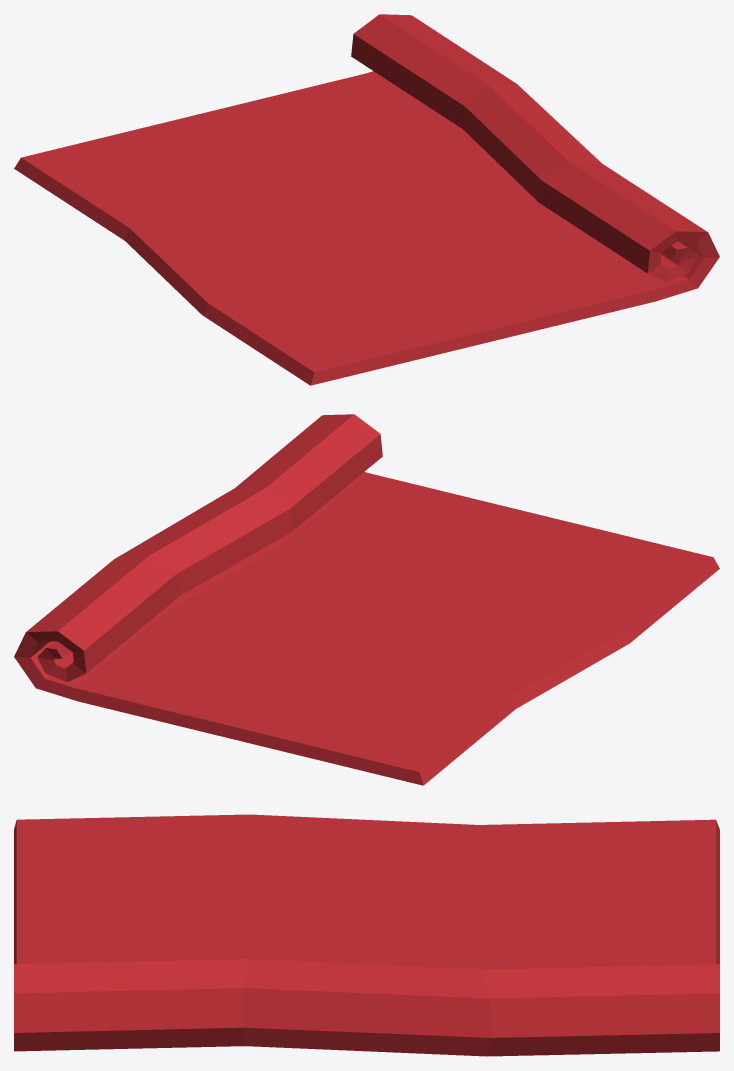
The model's file is egypt-egypt-rug.glb.
3 views of the same model, one above another, from view 1: azimuth 30°, elevation 25°; view 2: azimuth 150°, elevation 25°; view 3: azimuth 270°, elevation 25° (orthographic). The views are drawn at different scales.
Visible parts, largest first — view 1: egypt-rug; view 2: egypt-rug; view 3: egypt-rug.
Boxes of the visible parts, left/top/right/bottom form: egypt-rug: left=14, top=14, right=719, bottom=385; egypt-rug: left=14, top=414, right=719, bottom=785; egypt-rug: left=14, top=814, right=719, bottom=1056.
Size of the model in its own units: 1.42 by 0.2079 by 1.71.
